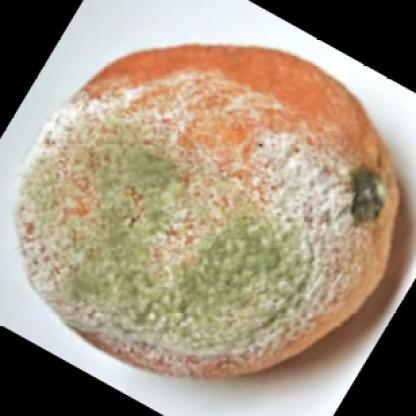rotten: (18, 44, 400, 380)
